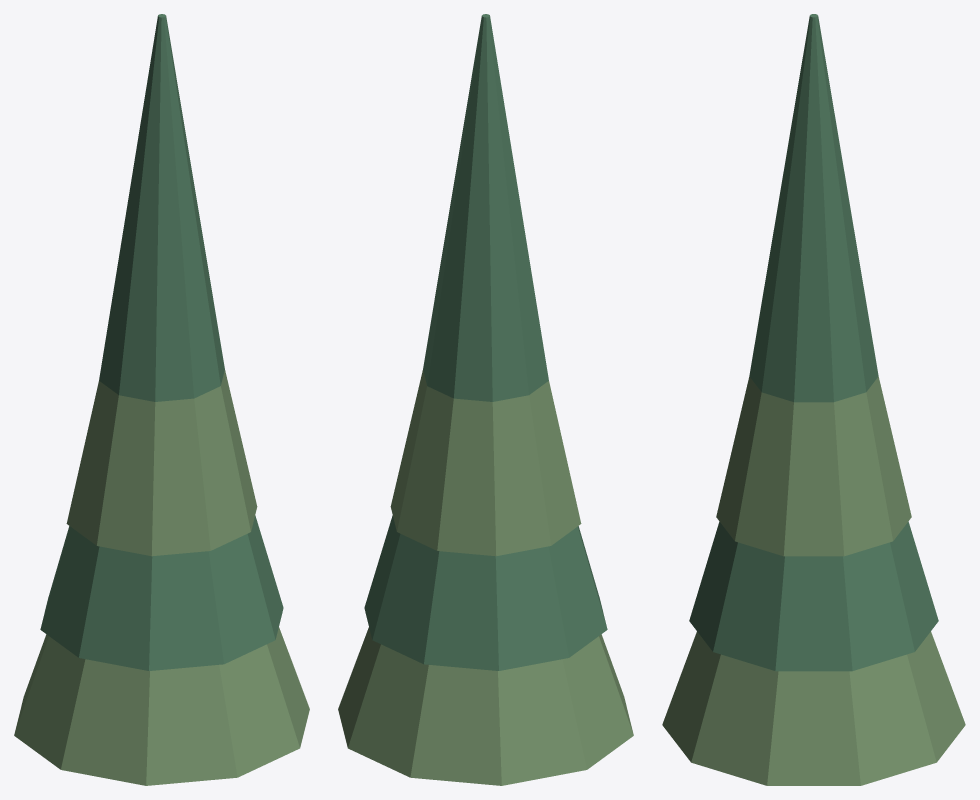
Rendered from tree_3.glb.
The picture shows the model from 3 angles, left to right: view 1: azimuth 30°, elevation 25°; view 2: azimuth 150°, elevation 25°; view 3: azimuth 270°, elevation 25°; orthographic projection.
Visible parts, largest first — view 1: Model; view 2: Model; view 3: Model.
Part boxes in pixels (x1,y1,x2,y2): Model: [14, 14, 309, 785]; Model: [338, 14, 633, 785]; Model: [662, 14, 965, 785].
Bounding box in the file's own units: 1.71 × 4.94 × 1.8.
